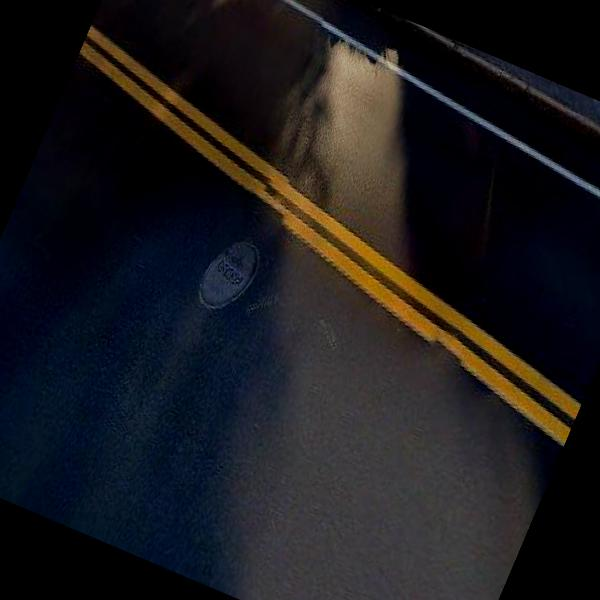manhole: (179, 222, 275, 342)
